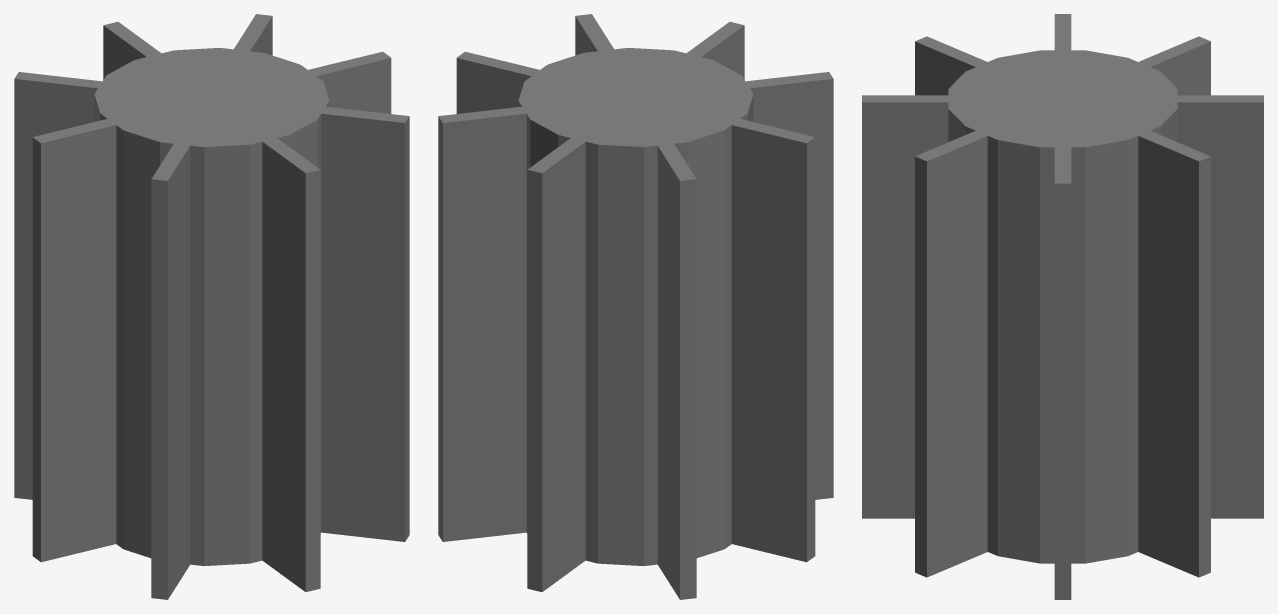
The model's file is radioisotopeGenerator.obj.
The picture shows the model from 3 angles, left to right: view 1: azimuth 30°, elevation 25°; view 2: azimuth 150°, elevation 25°; view 3: azimuth 270°, elevation 25°; orthographic projection.
Visible parts, largest first — view 1: hexadecagon; view 2: hexadecagon; view 3: hexadecagon.
Part boxes in pixels (x1,y1,x2,y2): hexadecagon: [14, 14, 409, 599]; hexadecagon: [438, 14, 833, 599]; hexadecagon: [862, 14, 1263, 599].
Bounding box in the file's own units: 14 × 16 × 14.
